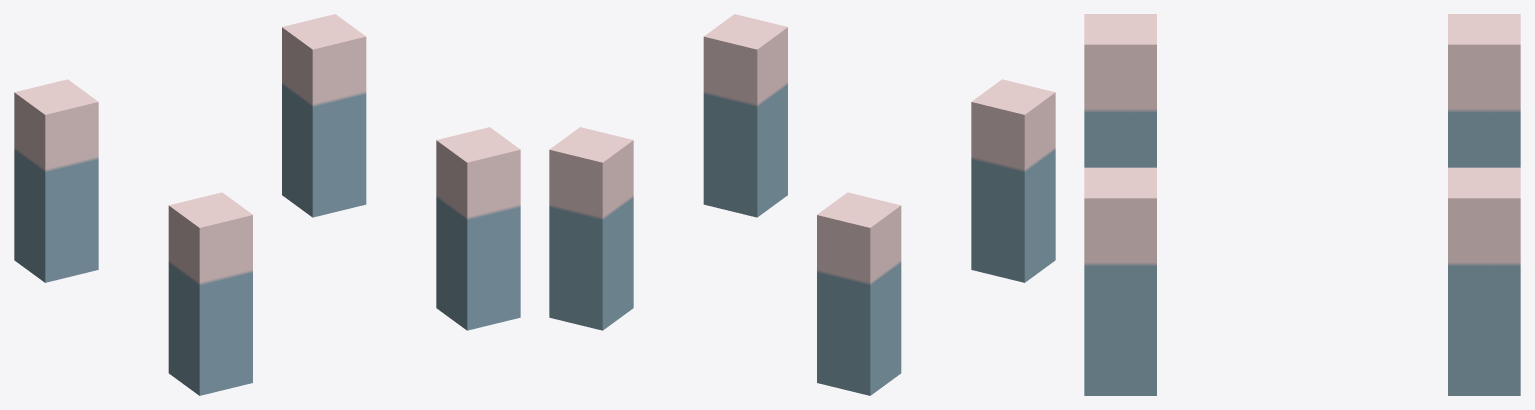
File: A3D_sample_trap_topPart.fbx
The picture shows the model from 3 angles, left to right: view 1: azimuth 30°, elevation 25°; view 2: azimuth 150°, elevation 25°; view 3: azimuth 270°, elevation 25°; orthographic projection. The views are drawn at different scales.
Visible parts, largest first — view 1: castle_spikes_part2; view 2: castle_spikes_part2; view 3: castle_spikes_part2.
Boxes of the visible parts, box(x1,y1,x2,y2) form: castle_spikes_part2: box(14, 14, 520, 395); castle_spikes_part2: box(549, 14, 1055, 395); castle_spikes_part2: box(1084, 14, 1520, 395).
Bounding box in the file's own units: 6 × 3 × 6.
